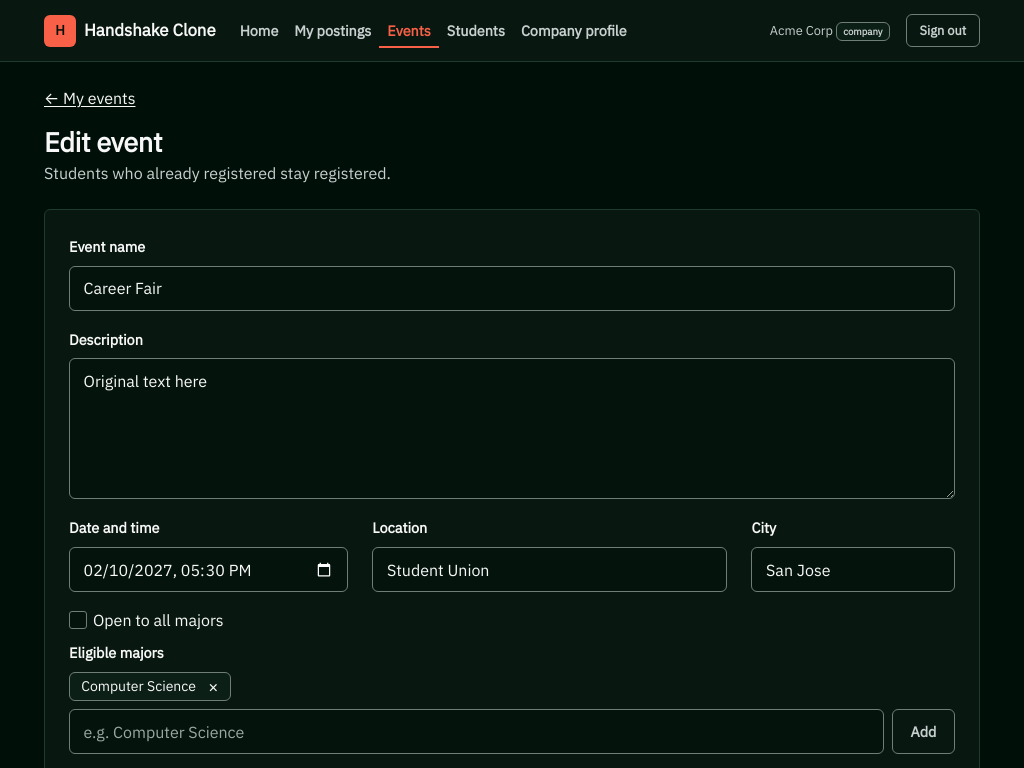
Test: Company events › edits an event
Check: the field labelled "Date and time" holds "2027-02-10T17:30", box [69,547,348,592]
Check: the checkbox labelled "Open to all majors" is not checked, box [69,611,87,629]
Replace the text in the field labelled "Event name" with "Spring Career Fair": (512, 288) [69,266,955,311]
(page scrolled)
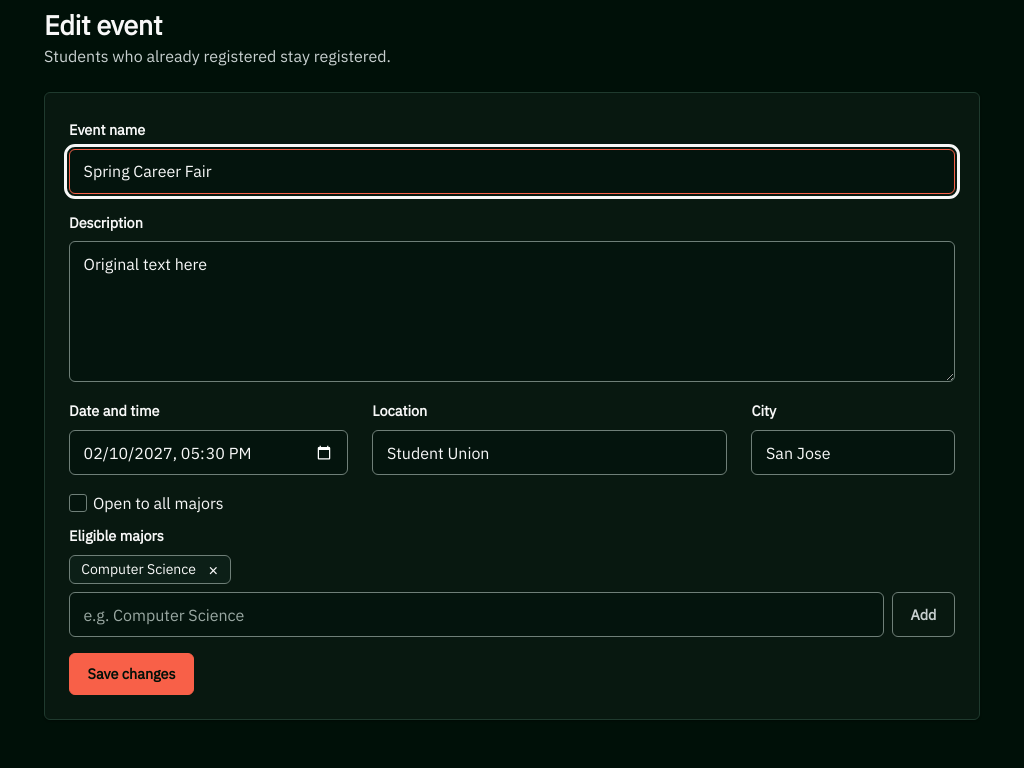
Click the button "Save changes": (132, 674) [69,654,194,695]
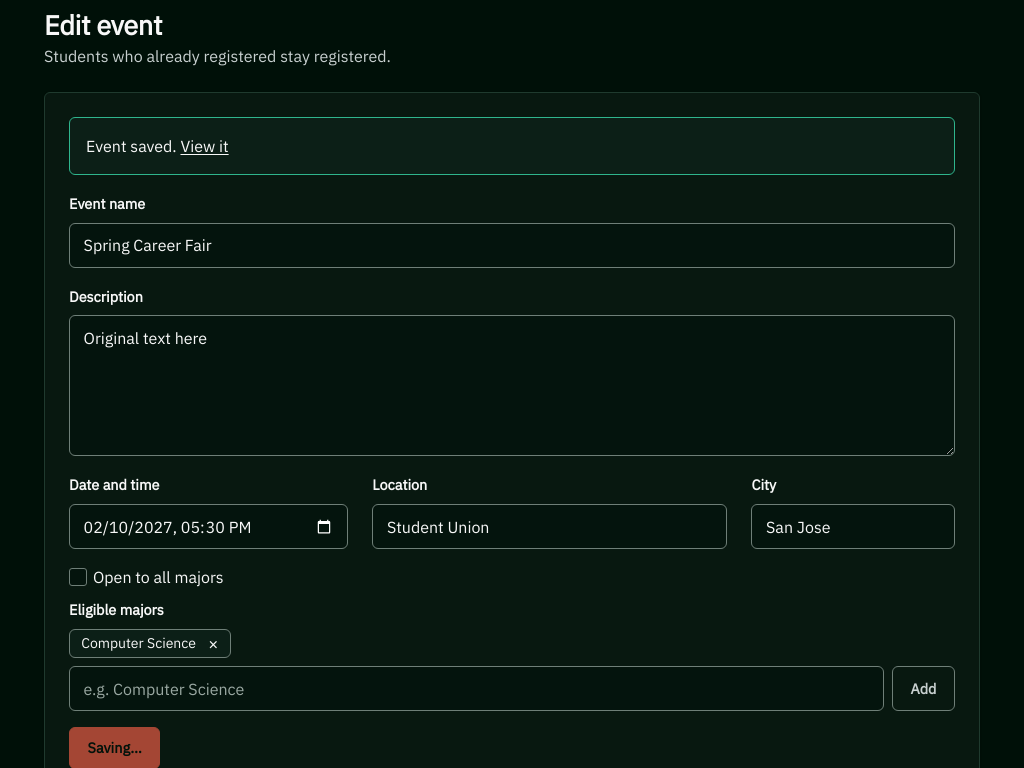
Check: the text "Event saved. View it" is shown, box [69,117,955,175]
